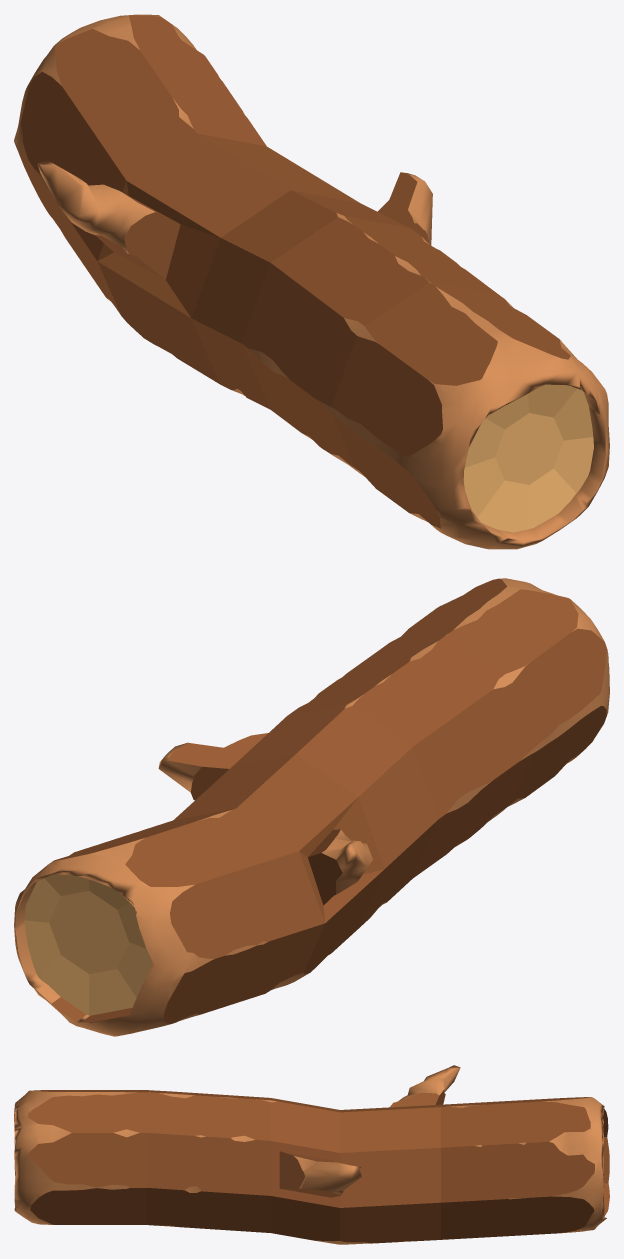
Rendered from TestWood.fbx.
The picture shows the model from 3 angles, top to bottom: view 1: azimuth 30°, elevation 25°; view 2: azimuth 150°, elevation 25°; view 3: azimuth 270°, elevation 25°; orthographic projection. The views are drawn at different scales.
Parts seen in each view (by area): view 1: Cylinder.003_dmg; view 2: Cylinder.003_dmg; view 3: Cylinder.003_dmg.
Boxes of the visible parts, x1,y1,x2,y2 form: Cylinder.003_dmg: [14, 14, 609, 549]; Cylinder.003_dmg: [14, 578, 609, 1036]; Cylinder.003_dmg: [14, 1065, 609, 1244].
Size of the model in its own units: 303 by 221 by 828.
